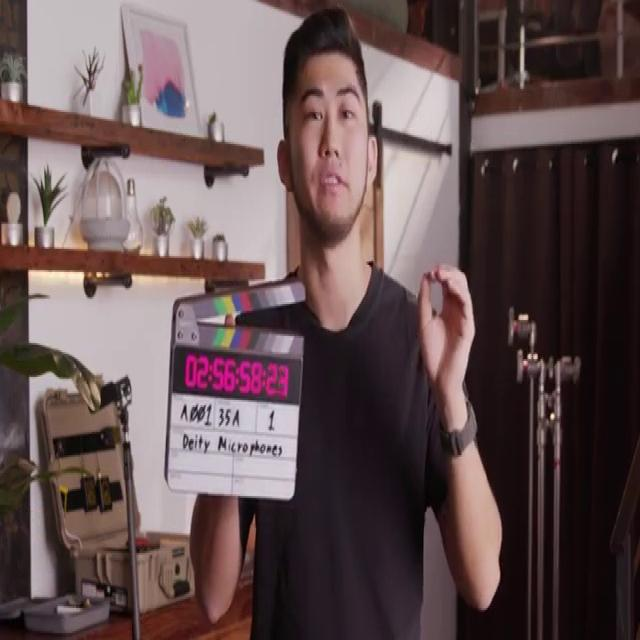Clapperboard: (162, 270, 306, 504)
